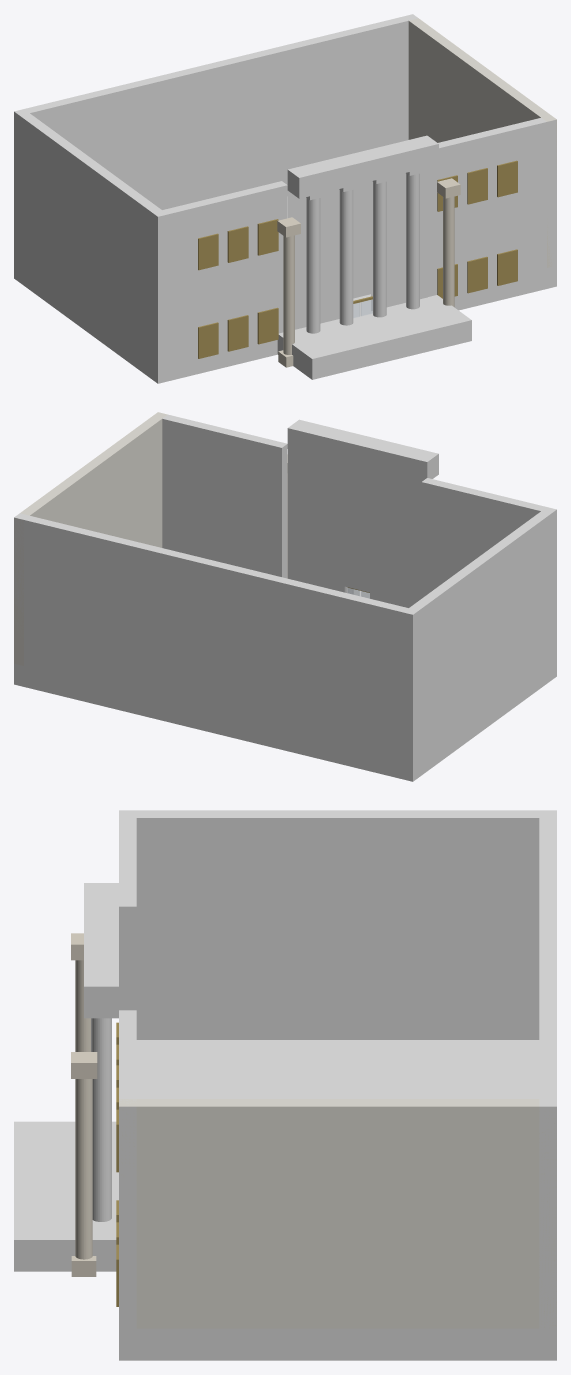
File: entrée.fbx
3 renders of one model, top to bottom at view 1: azimuth 30°, elevation 25°; view 2: azimuth 150°, elevation 25°; view 3: azimuth 270°, elevation 25°, orthographic. The views are drawn at different scales.
Parts seen in each view (by area): view 1: Mur_Arriere, Mur_Gauche, Mur_Avant_G, Mur_Avant_D, Mur_Porche, Mur_D, Escalier, Socle_Main, Architrave, Colonne_0, Colonne_1, Colonne_3 (+13 smaller); view 2: Mur_Arriere, Mur_Gauche, Mur_Porche, Mur_Avant_D, Socle_Main, Mur_D, Mur_Avant_G, Architrave; view 3: Mur_D, Mur_Gauche, Socle_Main, Escalier, Mur_Arriere, Mur_Avant_D, Architrave, Colonne_3, Mur_Avant_G, Col_8, Col_-8, Top_8.
Boxes of the visible parts, left/top/right/bottom form: Mur_Arriere: left=14, top=14, right=418, bottom=261; Mur_Gauche: left=14, top=111, right=167, bottom=362; Mur_Avant_G: left=152, top=181, right=287, bottom=362; Mur_Avant_D: left=427, top=118, right=556, bottom=296; Mur_Porche: left=288, top=167, right=427, bottom=329; Mur_D: left=408, top=18, right=556, bottom=267; Escalier: left=277, top=295, right=471, bottom=379; Socle_Main: left=14, top=196, right=556, bottom=383; Architrave: left=287, top=135, right=438, bottom=198; Colonne_0: left=306, top=198, right=320, bottom=333; Colonne_1: left=339, top=190, right=353, bottom=325; Colonne_3: left=406, top=173, right=419, bottom=309; Mur_Arriere: left=14, top=513, right=418, bottom=759; Mur_Gauche: left=403, top=507, right=556, bottom=760; Mur_Porche: left=288, top=449, right=421, bottom=607; Mur_Avant_D: left=162, top=414, right=287, bottom=578; Socle_Main: left=14, top=656, right=556, bottom=781; Mur_D: left=14, top=412, right=167, bottom=665; Mur_Avant_G: left=421, top=478, right=556, bottom=598; Architrave: left=287, top=419, right=438, bottom=481; Mur_D: left=119, top=1099, right=556, bottom=1328; Mur_Gauche: left=119, top=810, right=539, bottom=1039; Socle_Main: left=119, top=1040, right=556, bottom=1360; Escalier: left=14, top=1121, right=118, bottom=1271; Mur_Arriere: left=539, top=810, right=556, bottom=1328; Mur_Avant_D: left=119, top=1010, right=136, bottom=1328; Architrave: left=84, top=883, right=118, bottom=1018; Colonne_3: left=91, top=1018, right=111, bottom=1221; Mur_Avant_G: left=119, top=818, right=136, bottom=1010; Col_8: left=75, top=1079, right=92, bottom=1259; Col_-8: left=75, top=960, right=90, bottom=1051; Top_8: left=71, top=1052, right=97, bottom=1078.
Bounding box in the file's own units: 4000 × 1750 × 3100.
